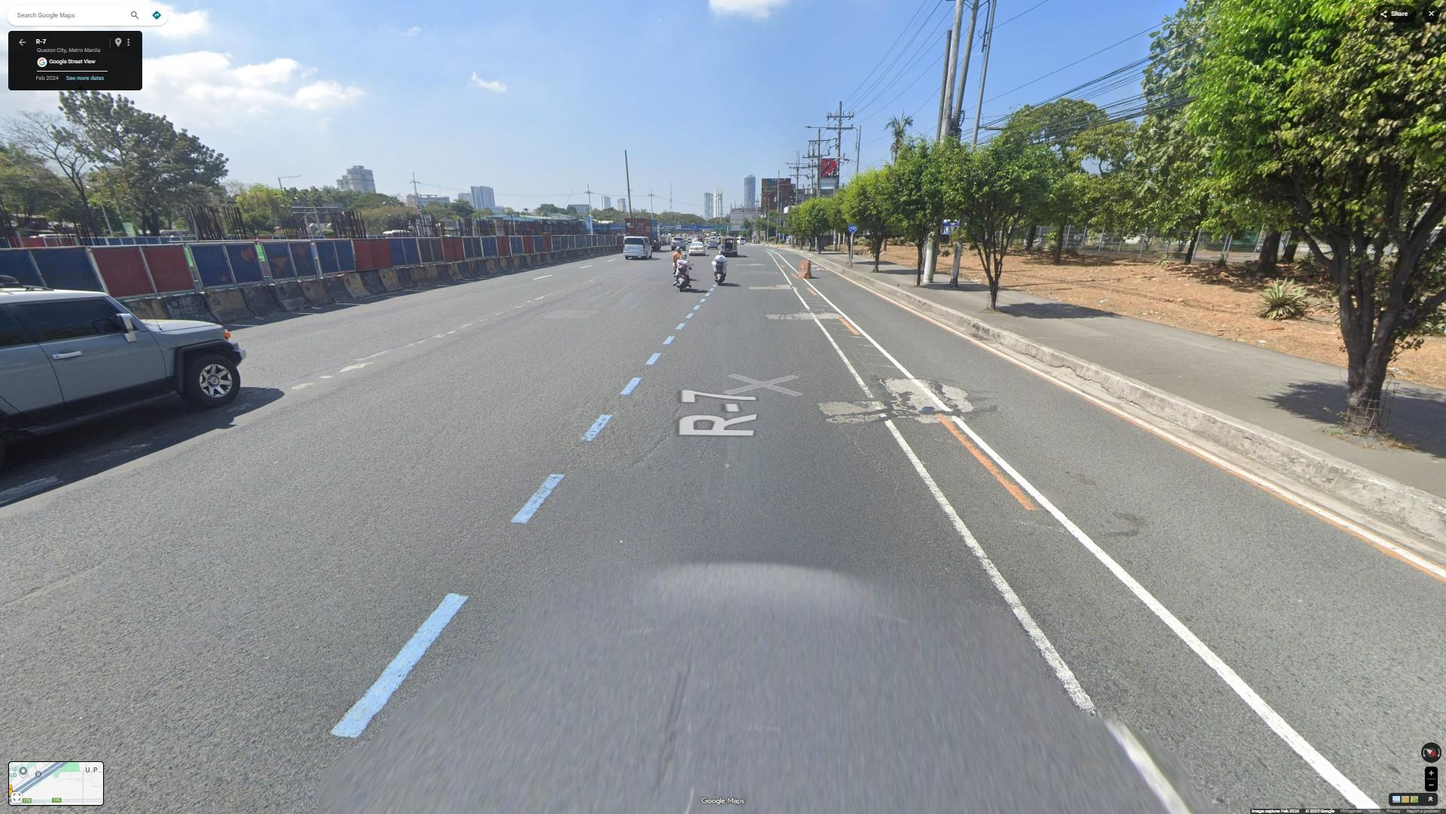pedestrian: (811, 237, 815, 251), (775, 236, 779, 245)
